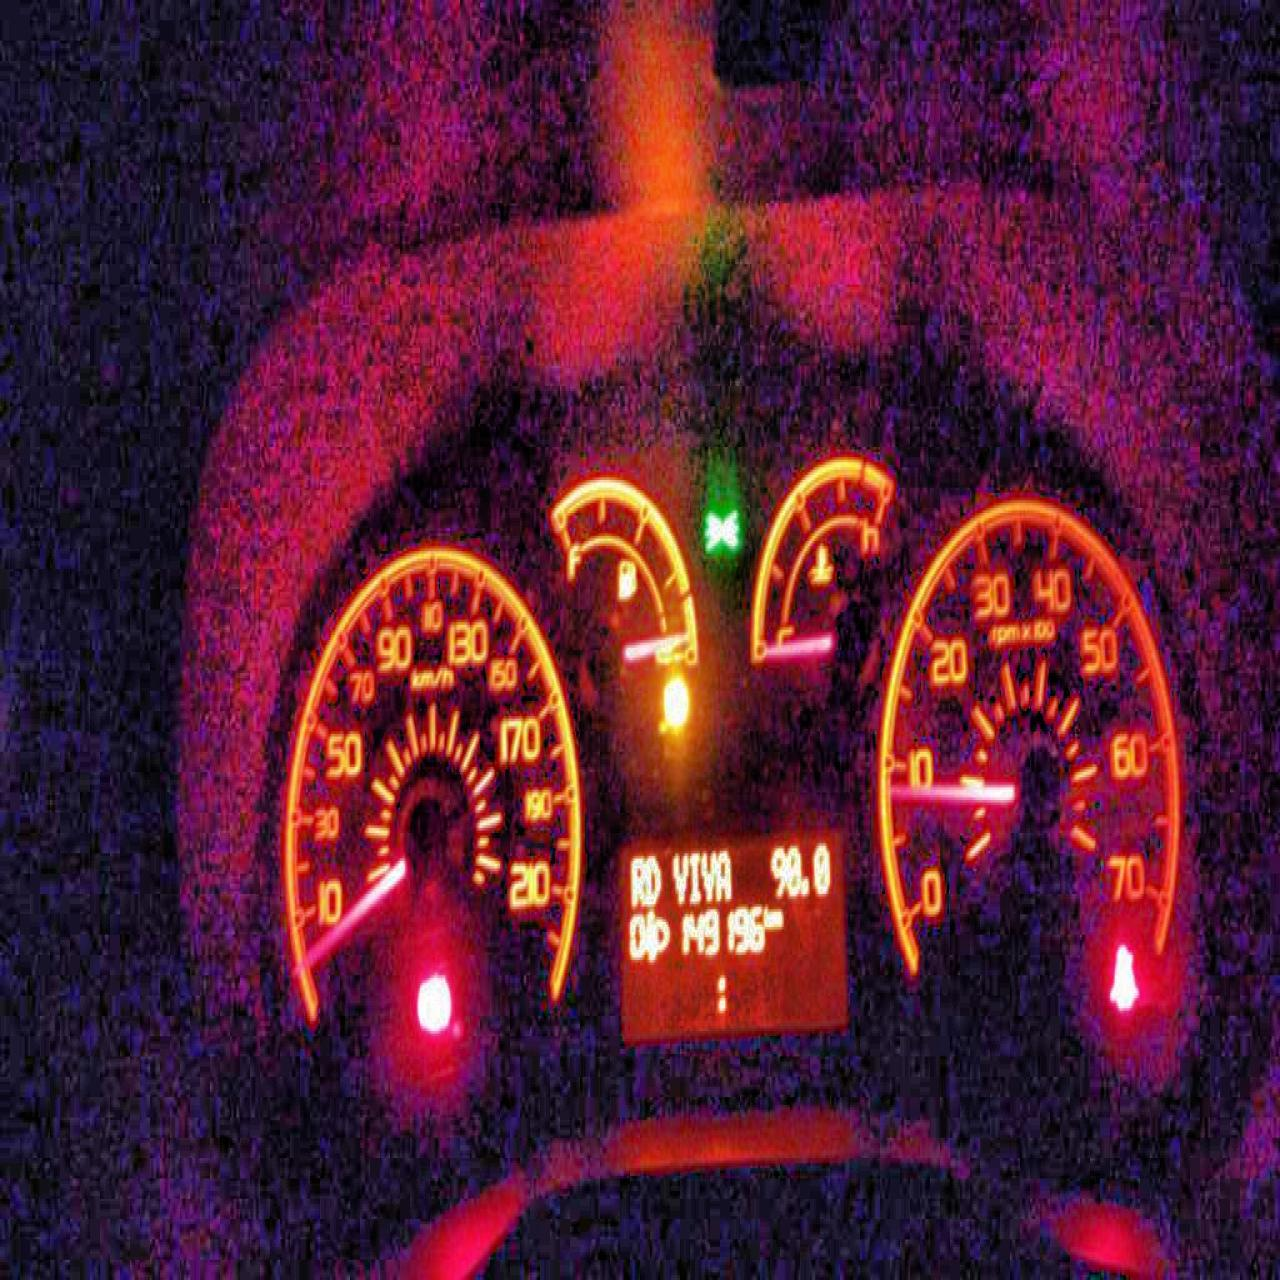-: (799, 873, 809, 897)
0: (811, 840, 830, 894), (627, 908, 645, 960), (785, 843, 799, 897)
1: (680, 910, 689, 955), (726, 907, 734, 952)
4: (688, 910, 702, 953)
6: (747, 901, 764, 953)
9: (769, 843, 785, 899), (702, 907, 719, 955), (734, 904, 748, 953)
X: (670, 847, 689, 904), (714, 849, 731, 901), (645, 851, 661, 904), (629, 853, 645, 907), (700, 849, 715, 901), (688, 851, 700, 904), (716, 973, 726, 1010)
odometer: (618, 825, 847, 1043)
